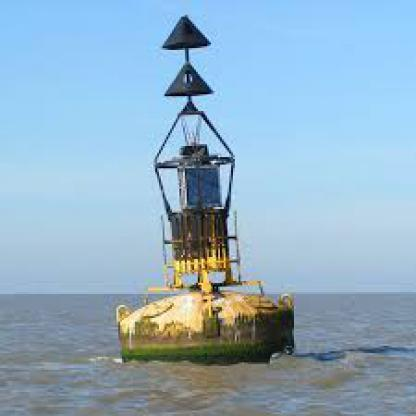buoy: (107, 13, 300, 372)
